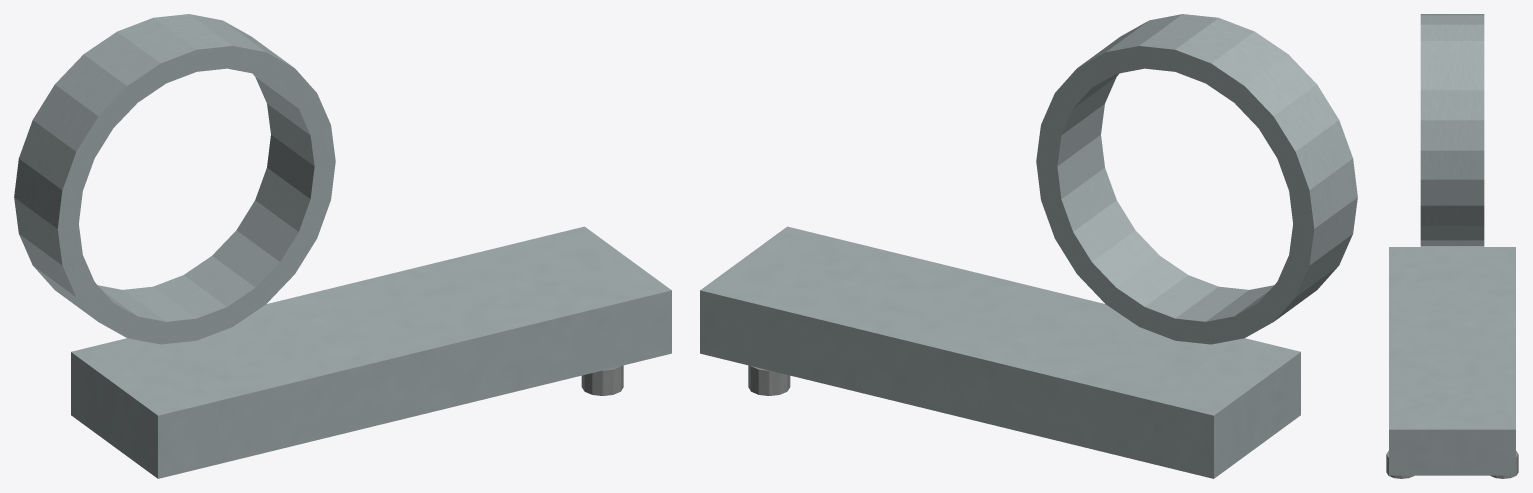
The model's file is Downspout_Wall_Bracket.glb.
3 renders of one model, left to right at view 1: azimuth 30°, elevation 25°; view 2: azimuth 150°, elevation 25°; view 3: azimuth 270°, elevation 25°, orthographic. The views are drawn at different scales.
Parts seen in each view (by area): view 1: Wall_Mounting_Plate, Pipe_Hoop_Clamp, Screw_2; view 2: Wall_Mounting_Plate, Pipe_Hoop_Clamp, Screw_1; view 3: Wall_Mounting_Plate, Pipe_Hoop_Clamp.
Boxes of the visible parts, x1,y1,x2,y2 form: Wall_Mounting_Plate: (71, 226, 671, 478); Pipe_Hoop_Clamp: (14, 14, 335, 344); Screw_2: (581, 365, 623, 395); Wall_Mounting_Plate: (700, 226, 1300, 478); Pipe_Hoop_Clamp: (1036, 14, 1357, 344); Screw_1: (748, 365, 790, 395); Wall_Mounting_Plate: (1389, 247, 1515, 475); Pipe_Hoop_Clamp: (1420, 14, 1484, 246).
Size of the model in its own units: 0.196 by 0.134 by 0.052.
2 materials, 2 textured.
